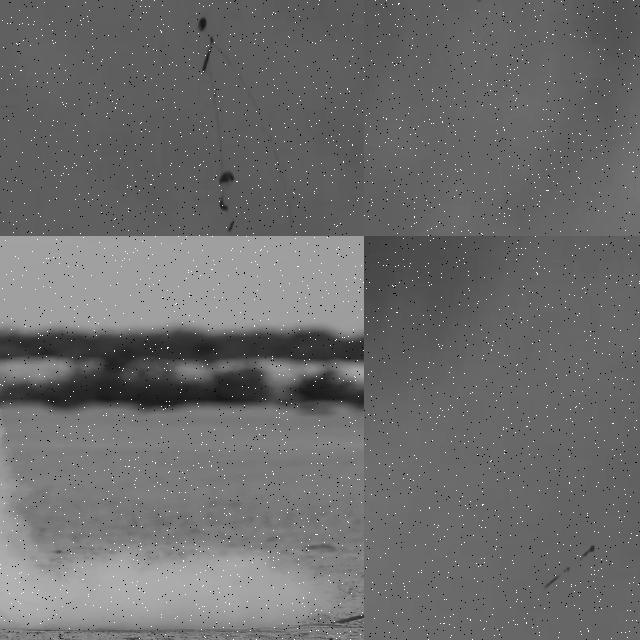Rocket: (545, 544, 595, 589), (477, 0, 489, 3)
